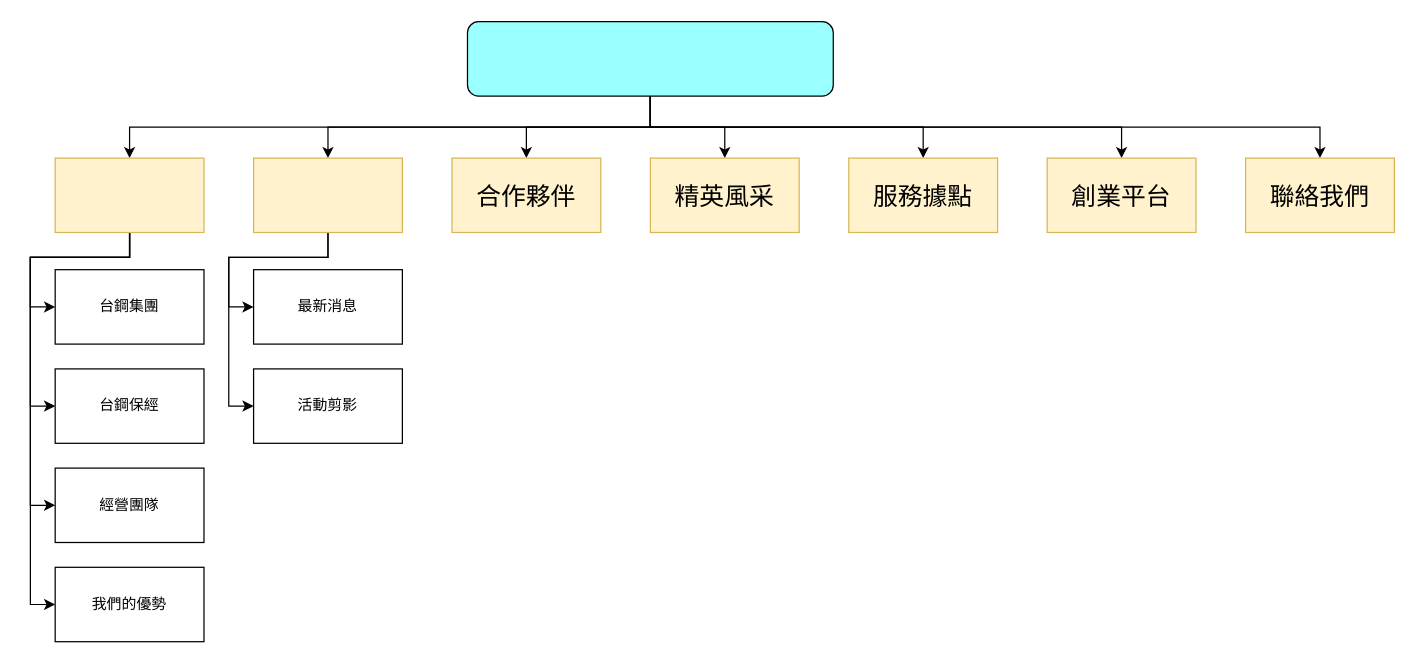
The diagram is 1416 pixels wide and 663 high, and some of its shapes have lost their labels. The shapes that lost their labels are listed below. From the top down, each one's centre as x and y in pixels, then its label:
pixel 649 58: 台鋼保經官網 https://www.titanbroker.com.tw
pixel 129 194: 關於台鋼
pixel 327 194: 訊息活動
